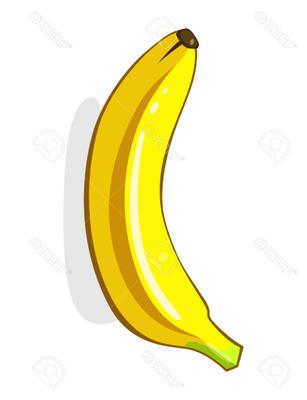banana: (0, 0, 307, 400)
